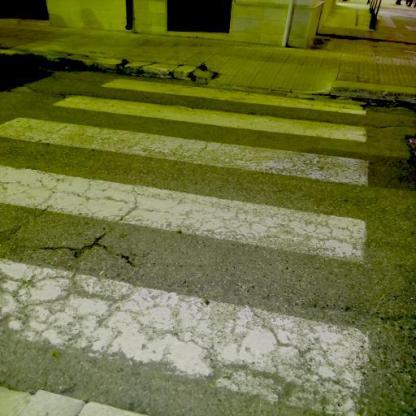crosswalk: (47, 76, 390, 147)
